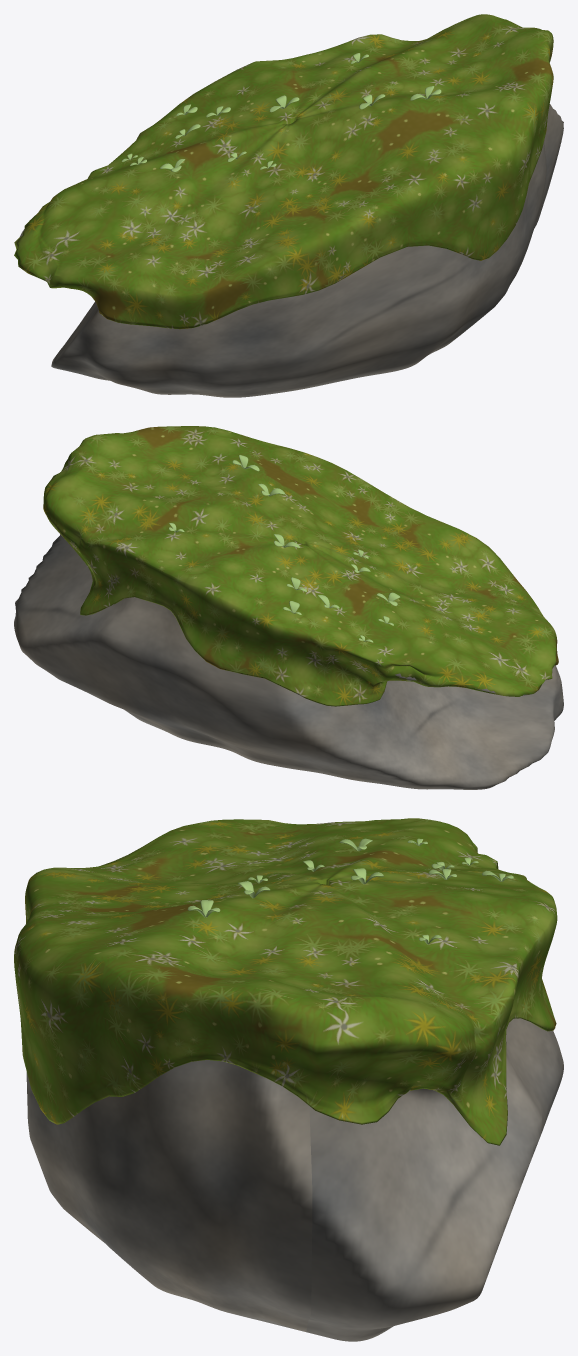
The model's file is SM_Valley_CreekBoulder_LowWedge.fbx.
The picture shows the model from 3 angles, top to bottom: view 1: azimuth 30°, elevation 25°; view 2: azimuth 150°, elevation 25°; view 3: azimuth 270°, elevation 25°; orthographic projection. The views are drawn at different scales.
Parts seen in each view (by area): view 1: SM_Valley_CreekBoulder_LowWedge; view 2: SM_Valley_CreekBoulder_LowWedge; view 3: SM_Valley_CreekBoulder_LowWedge.
Part boxes in pixels (x1,y1,x2,y2): SM_Valley_CreekBoulder_LowWedge: [14, 14, 563, 397]; SM_Valley_CreekBoulder_LowWedge: [14, 426, 563, 789]; SM_Valley_CreekBoulder_LowWedge: [14, 818, 563, 1341].
Size of the model in its own units: 143 by 80.36 by 63.24.
Materials: 3 (2 with a texture image).
